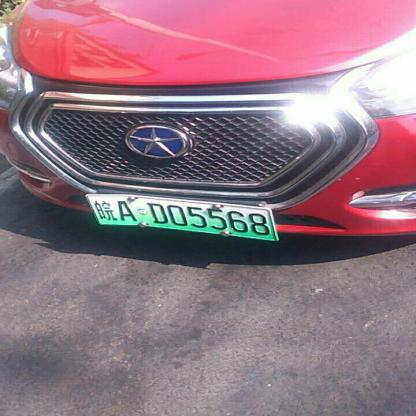lp: (86, 195, 276, 240)
